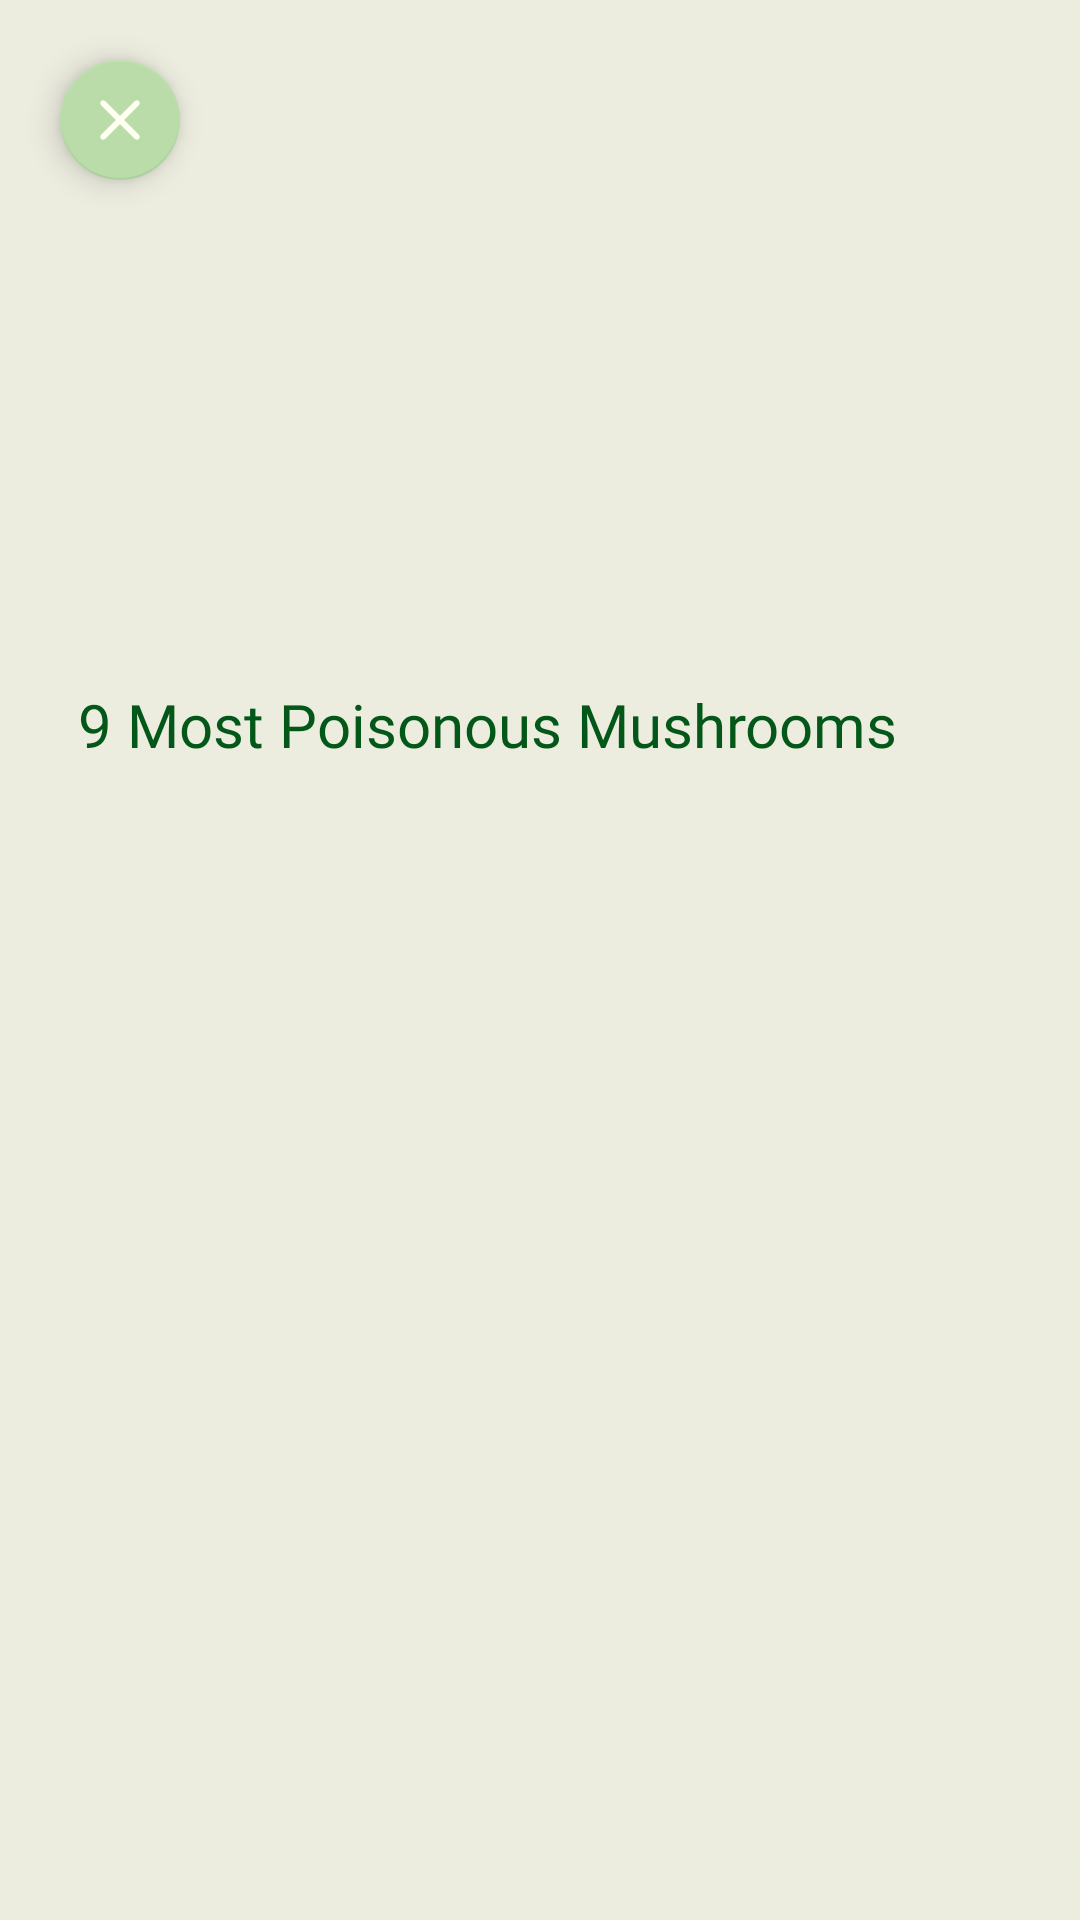

Where icons sit on this 1080 × 1920 app screen, as (x1, y1, x2, y2):
close: (58, 60, 180, 180)
